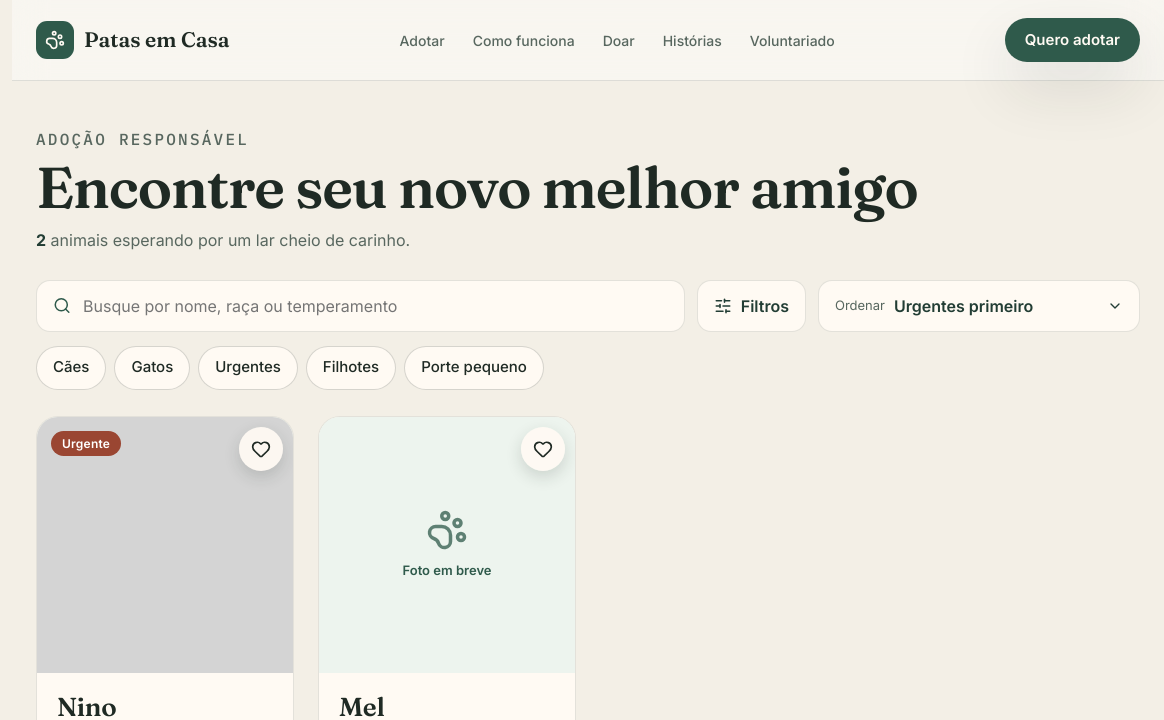
Scenario: quick filters change the list and are saved in the address
This screenshot has width=1164, height=720.
Expected: the text "2 animais esperando por um lar cheio de carinho." is shown, [36,230,410,250]
// Clica no atalho "Gatos".
Click the button "Gatos" at (152, 368), box [114,346,190,390]
(page scrolled)
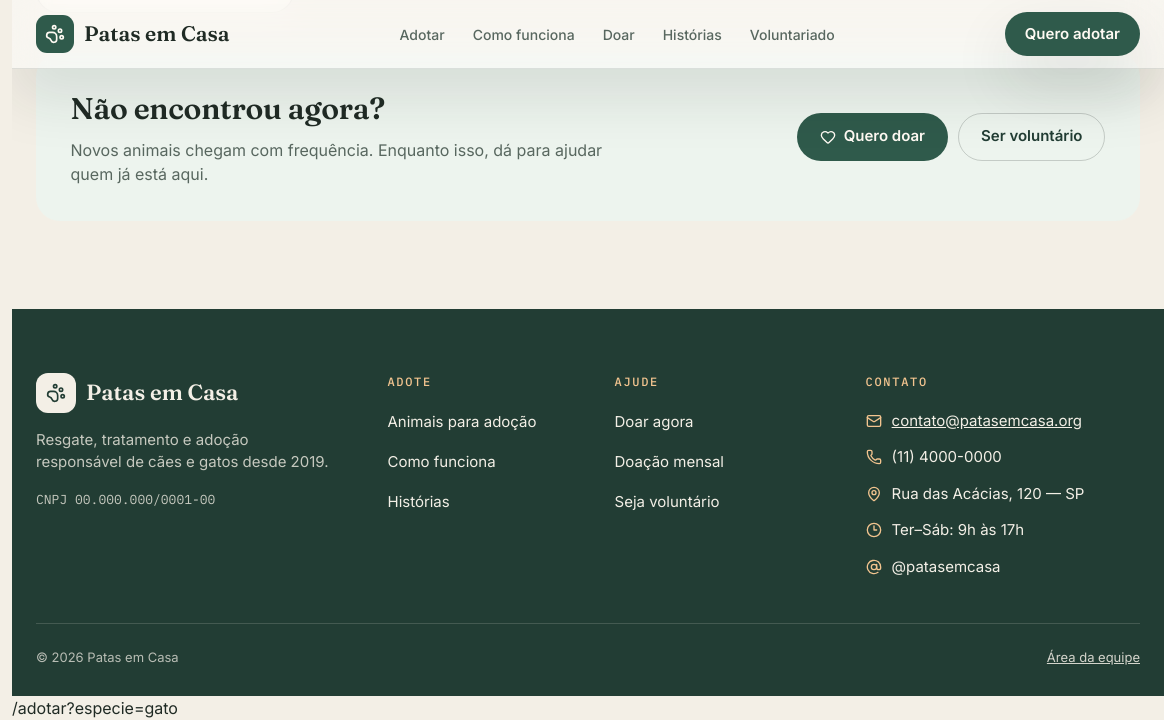
Now the text with test id "location" reads "/adotar?especie=gato", box [12,698,178,718]
